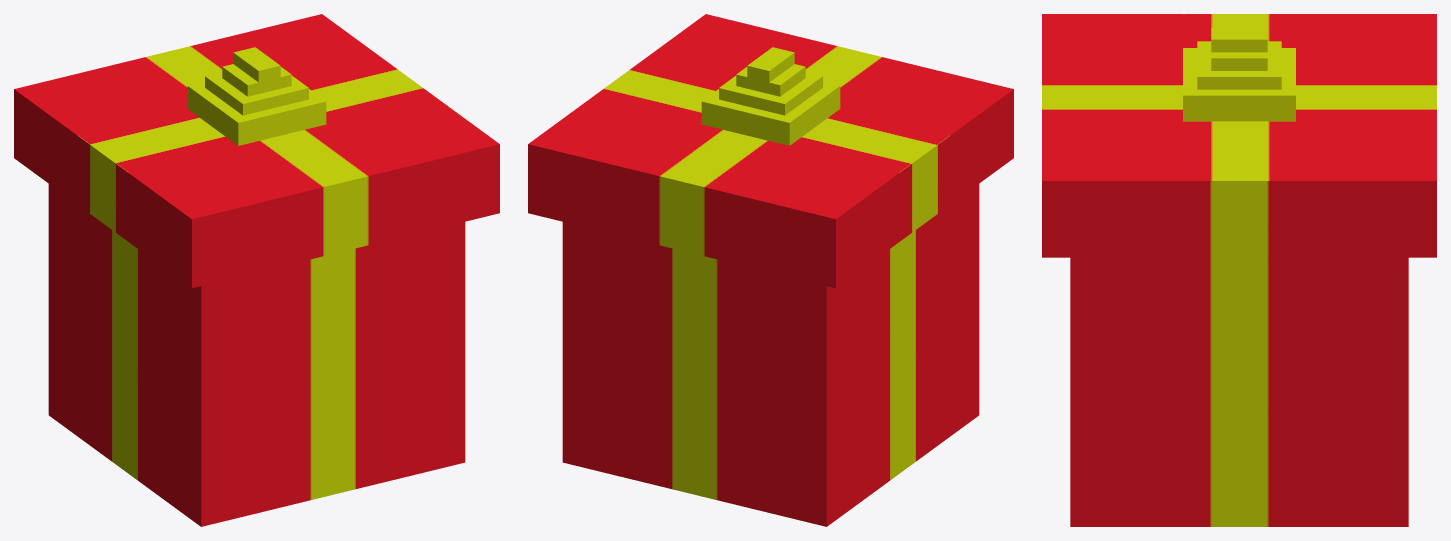
Rendered from Red.dae.
3 renders of one model, left to right at view 1: azimuth 30°, elevation 25°; view 2: azimuth 150°, elevation 25°; view 3: azimuth 270°, elevation 25°, orthographic. The views are drawn at different scales.
Parts seen in each view (by area): view 1: PresentRed; view 2: PresentRed; view 3: PresentRed.
Boxes of the visible parts, x1,y1,x2,y2 form: PresentRed: [14, 14, 499, 526]; PresentRed: [528, 14, 1013, 526]; PresentRed: [1042, 14, 1436, 526].
Bounding box in the file's own units: 28 × 33 × 28.
1 material, 1 textured.
